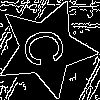C: (21, 24, 76, 70)
